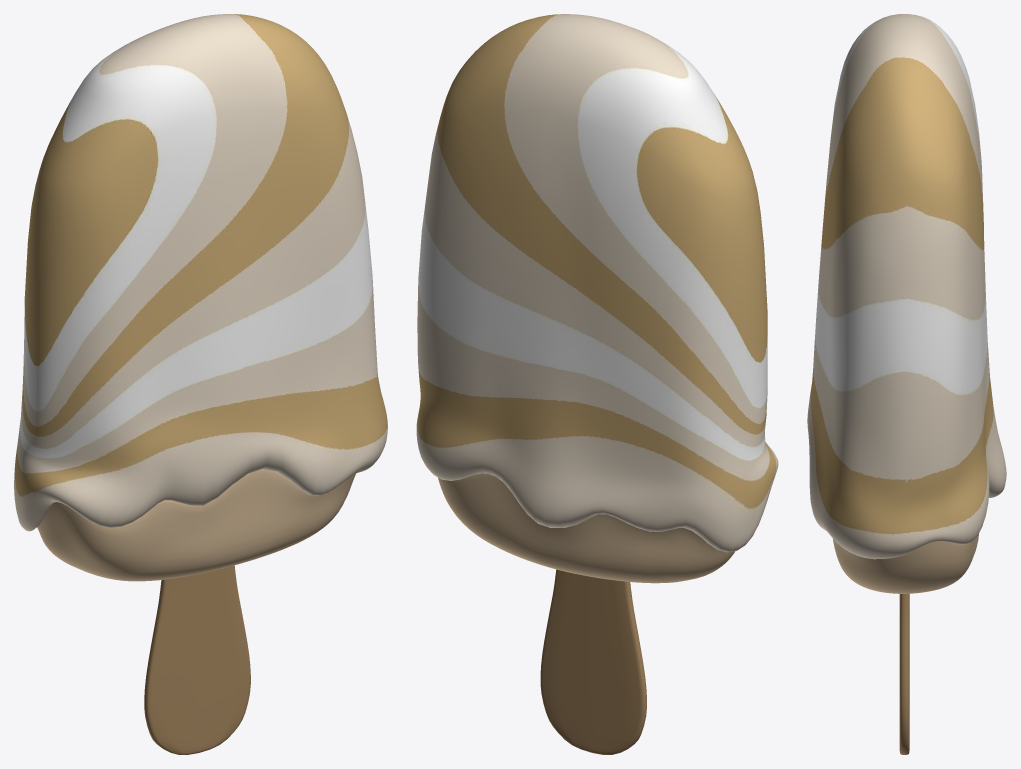
File: Project Name.gltf
The picture shows the model from 3 angles, left to right: view 1: azimuth 30°, elevation 25°; view 2: azimuth 150°, elevation 25°; view 3: azimuth 270°, elevation 25°; orthographic projection.
Visible parts, largest first — view 1: Frosting, Ice cream, Stick; view 2: Frosting, Stick, Ice cream; view 3: Frosting, Ice cream, Stick.
Part boxes in pixels (bbox=[...]): Frosting: bbox=[14, 14, 387, 531]; Ice cream: bbox=[37, 469, 355, 581]; Stick: bbox=[144, 565, 250, 754]; Frosting: bbox=[416, 14, 778, 552]; Stick: bbox=[540, 569, 646, 754]; Ice cream: bbox=[438, 473, 734, 583]; Frosting: bbox=[807, 14, 1006, 559]; Ice cream: bbox=[833, 533, 978, 593]; Stick: bbox=[899, 593, 909, 754].
Size of the model in its own units: 0.0877 by 0.1769 by 0.0446.
3 materials, 1 textured.
